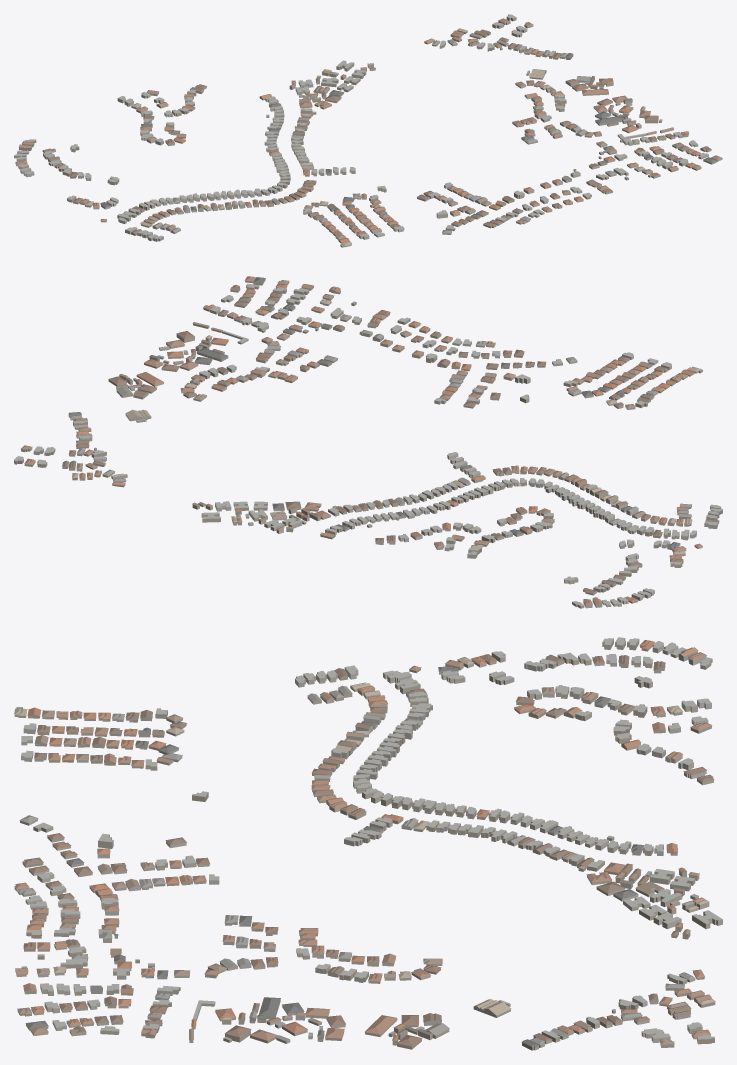
The model's file is buildings_r6_c6.glb.
3 renders of one model, top to bottom at view 1: azimuth 30°, elevation 25°; view 2: azimuth 150°, elevation 25°; view 3: azimuth 270°, elevation 25°, orthographic. The views are drawn at different scales.
Parts seen in each view (by area): view 1: buildings_r6_c6; view 2: buildings_r6_c6; view 3: buildings_r6_c6.
Boxes of the visible parts, x1=… form: buildings_r6_c6: x1=14, y1=14, x2=722, y2=247; buildings_r6_c6: x1=14, y1=276, x2=722, y2=608; buildings_r6_c6: x1=14, y1=637, x2=722, y2=1050.
Size of the model in its own units: 1146 by 76.79 by 808.
